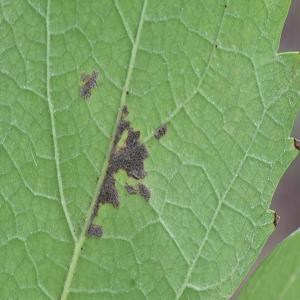Folha: (0, 0, 298, 298)
Fungo: (85, 104, 167, 238), (98, 103, 130, 208), (120, 127, 150, 179), (110, 104, 130, 156), (78, 68, 98, 99), (124, 182, 151, 202), (125, 126, 140, 148), (85, 222, 103, 238), (137, 182, 151, 202), (154, 122, 167, 140), (78, 83, 91, 99), (90, 68, 99, 88), (124, 182, 137, 195), (80, 71, 90, 84), (272, 212, 280, 228), (293, 137, 299, 150), (126, 89, 128, 94)
